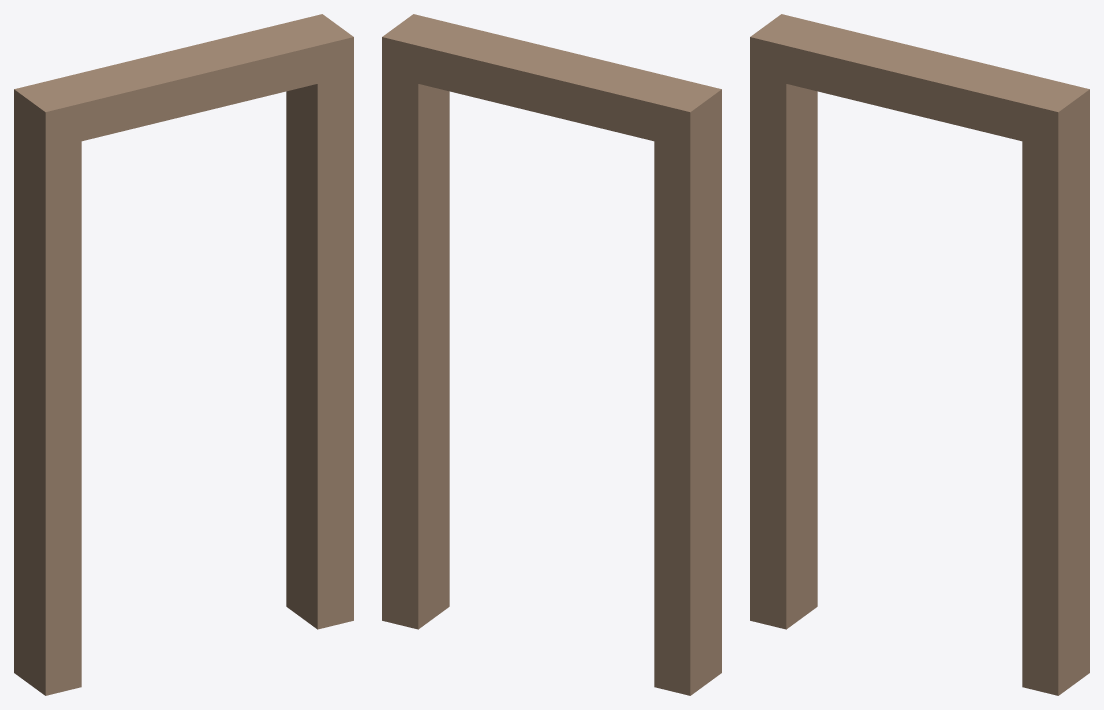
Rendered from b-doorframe.glb.
The picture shows the model from 3 angles, left to right: view 1: azimuth 30°, elevation 25°; view 2: azimuth 150°, elevation 25°; view 3: azimuth 330°, elevation 25°; orthographic projection.
Parts seen in each view (by area): view 1: b-doorframe; view 2: b-doorframe; view 3: b-doorframe.
Part boxes in pixels (x1,y1,x2,y2): b-doorframe: (14, 14, 353, 695); b-doorframe: (382, 14, 721, 695); b-doorframe: (750, 14, 1089, 695).
Bounding box in the file's own units: 1.36 × 2.46 × 0.24.
